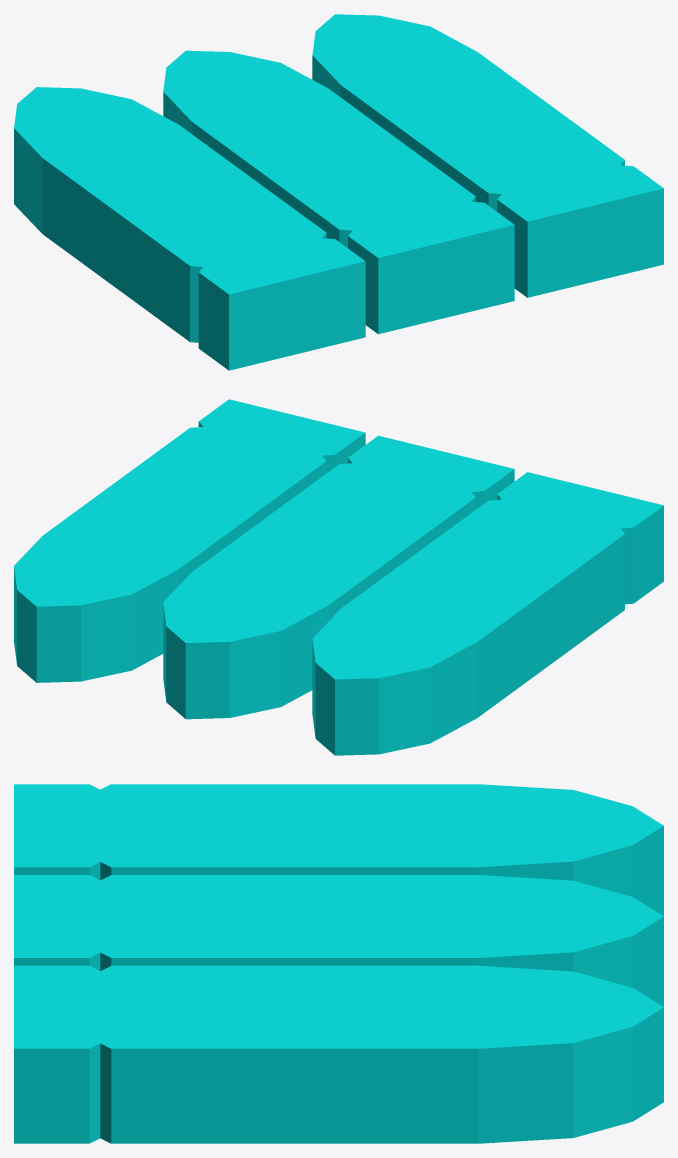
Rendered from m_ammo.fbx.
The picture shows the model from 3 angles, top to bottom: view 1: azimuth 30°, elevation 25°; view 2: azimuth 150°, elevation 25°; view 3: azimuth 270°, elevation 25°; orthographic projection. The views are drawn at different scales.
Visible parts, largest first — view 1: sm_ammo; view 2: sm_ammo; view 3: sm_ammo.
Boxes of the visible parts, box(x1,y1,x2,y2) form: sm_ammo: box(14, 14, 663, 370); sm_ammo: box(14, 399, 663, 755); sm_ammo: box(14, 784, 663, 1143).
Size of the model in its own units: 83.95 by 14.05 by 87.16.
